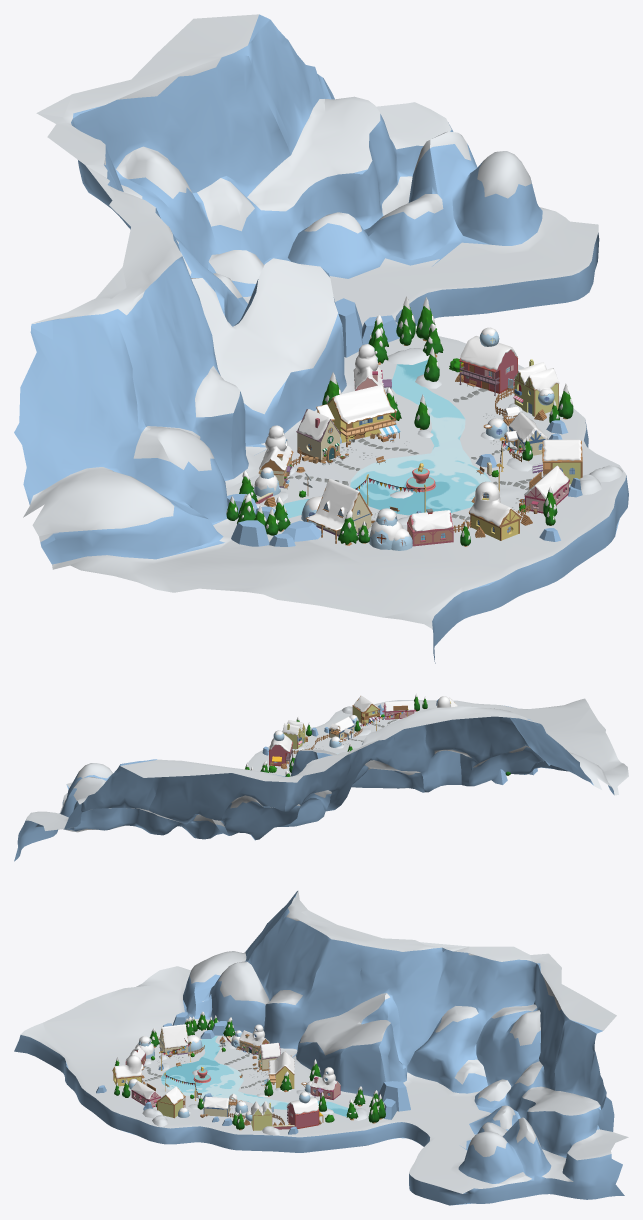
File: Individual_IceBreakerAlley_02.fbx
3 views of the same model, one above another, from view 1: azimuth 30°, elevation 25°; view 2: azimuth 150°, elevation 25°; view 3: azimuth 270°, elevation 25° (orthographic). The views are drawn at different scales.
Visible parts, largest first — view 1: pasted__pasted__Berg1, pasted__Building_Platform2Story, pasted__Building_House_FlatRoofIgloo, pasted__Building_TallRoof, pasted__Building_2Roofs, pasted__Building_House_1IglooStack, pasted__Building_CoffeeShop, polySurface4, pasted__Building_1StoryHouse, pasted__Building_3WayIgloo, pasted__Building_House_3Windows, pasted__Building_Platformed1Story (+3 smaller); view 2: pasted__pasted__Berg1, pasted__Building_House_FlatRoofIgloo, polySurface4, pasted__Building_House_3Windows, pasted__Building_2Roofs, pasted__Building_Platformed1Story; view 3: pasted__pasted__Berg1, pasted__Building_House_FlatRoofIgloo, pasted__Building_TallRoof, pasted__Building_Platform2Story, pasted__Building_House_2IglooStack, pasted__Object_IceRock11, pasted__Building_House_1IglooStack, pasted__Building_2Roofs, polySurface4, pasted__Building_Platformed1Story, pasted__Building_House_2IglooStack1, pasted__Building_House_3Windows (+1 smaller).
Part boxes in pixels (x1,y1,x2,y2): pasted__pasted__Berg1: [14, 14, 628, 663]; pasted__Building_Platform2Story: [316, 385, 400, 447]; pasted__Building_House_FlatRoofIgloo: [459, 327, 517, 395]; pasted__Building_TallRoof: [305, 478, 372, 543]; pasted__Building_2Roofs: [508, 359, 559, 416]; pasted__Building_House_1IglooStack: [468, 481, 522, 540]; pasted__Building_CoffeeShop: [296, 409, 340, 462]; polySurface4: [532, 439, 582, 484]; pasted__Building_1StoryHouse: [407, 508, 453, 546]; pasted__Building_3WayIgloo: [369, 508, 412, 550]; pasted__Building_House_3Windows: [524, 465, 569, 513]; pasted__Building_Platformed1Story: [503, 406, 547, 455]; pasted__pasted__Berg1: [14, 698, 628, 861]; pasted__Building_House_FlatRoofIgloo: [268, 730, 292, 768]; polySurface4: [352, 695, 380, 725]; pasted__Building_House_3Windows: [382, 700, 415, 719]; pasted__Building_2Roofs: [282, 720, 305, 749]; pasted__Building_Platformed1Story: [328, 716, 354, 739]; pasted__pasted__Berg1: [14, 890, 628, 1205]; pasted__Building_House_FlatRoofIgloo: [287, 1091, 323, 1128]; pasted__Building_TallRoof: [157, 1024, 188, 1055]; pasted__Building_Platform2Story: [264, 1051, 294, 1088]; pasted__Building_House_2IglooStack: [310, 1067, 340, 1099]; pasted__Object_IceRock11: [378, 1081, 410, 1111]; pasted__Building_House_1IglooStack: [112, 1055, 143, 1086]; pasted__Building_2Roofs: [245, 1100, 273, 1130]; polySurface4: [156, 1086, 185, 1118]; pasted__Building_Platformed1Story: [203, 1093, 237, 1116]; pasted__Building_House_2IglooStack1: [239, 1024, 269, 1055]; pasted__Building_House_3Windows: [131, 1081, 160, 1107].
Size of the model in its own units: 12522 by 3242 by 14933.
